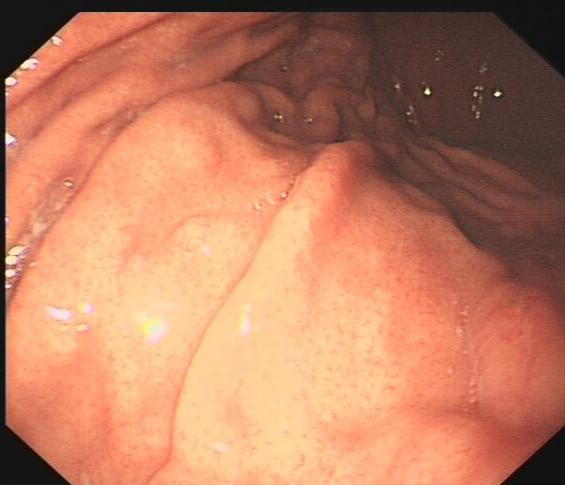Polyp: (152, 193, 234, 273)
